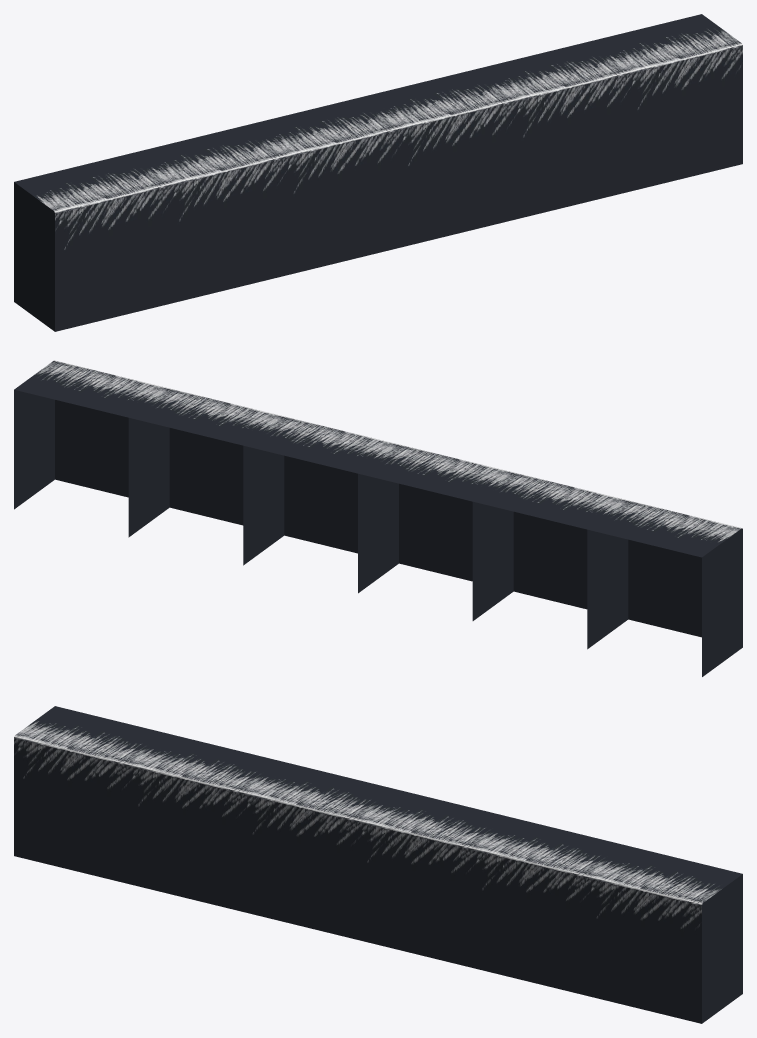
The model's file is Ground6.fbx.
The picture shows the model from 3 angles, top to bottom: view 1: azimuth 30°, elevation 25°; view 2: azimuth 150°, elevation 25°; view 3: azimuth 330°, elevation 25°; orthographic projection.
Visible parts, largest first — view 1: Ground6; view 2: Ground6; view 3: Ground6.
Part boxes in pixels (<box>): Ground6: <box>14,14,742,331</box>; Ground6: <box>14,360,742,676</box>; Ground6: <box>14,706,742,1023</box>.
Size of the model in its own units: 12 by 2 by 1.24.
